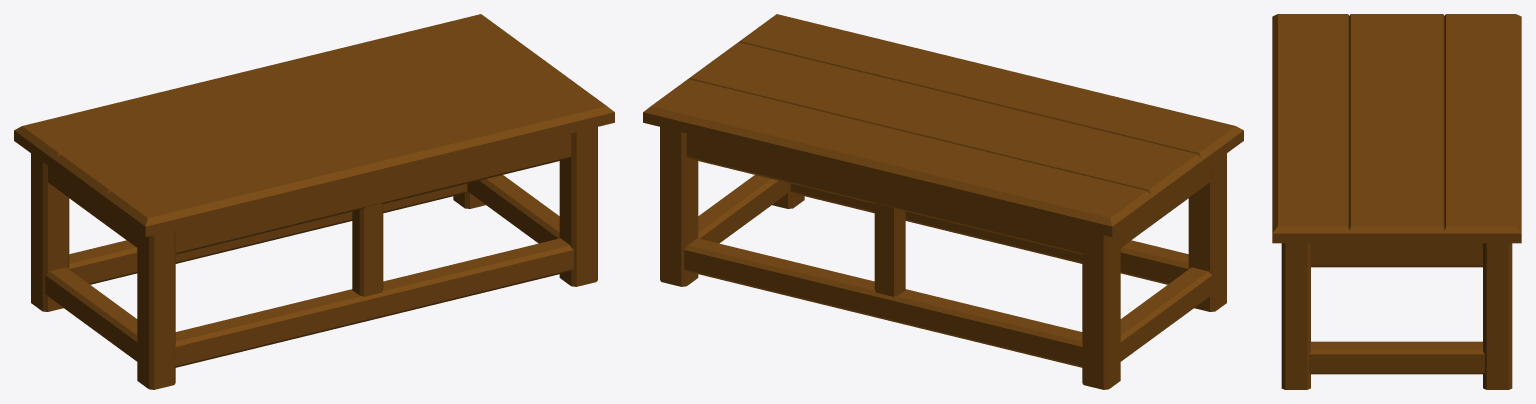
The model's file is SM_Furniture_BenchLong_Umber_02.fbx.
3 views of the same model, side by side, from view 1: azimuth 30°, elevation 25°; view 2: azimuth 150°, elevation 25°; view 3: azimuth 270°, elevation 25° (orthographic). The views are drawn at different scales.
Visible parts, largest first — view 1: SM_Furniture_BenchLong_Umber_02; view 2: SM_Furniture_BenchLong_Umber_02; view 3: SM_Furniture_BenchLong_Umber_02.
Boxes of the visible parts, <box> form: SM_Furniture_BenchLong_Umber_02: <box>14,14,614,389</box>; SM_Furniture_BenchLong_Umber_02: <box>643,14,1243,389</box>; SM_Furniture_BenchLong_Umber_02: <box>1272,14,1521,389</box>.
Size of the model in its own units: 1.4 by 0.5 by 0.68.
1 material, 1 textured.
